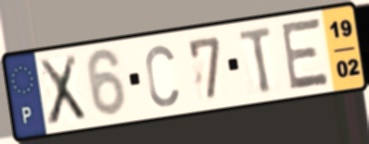6: (84, 45, 132, 121)
7: (185, 33, 223, 103)
C: (143, 42, 181, 110)
E: (280, 15, 332, 93)
T: (237, 23, 276, 96)
X: (36, 52, 89, 129)
